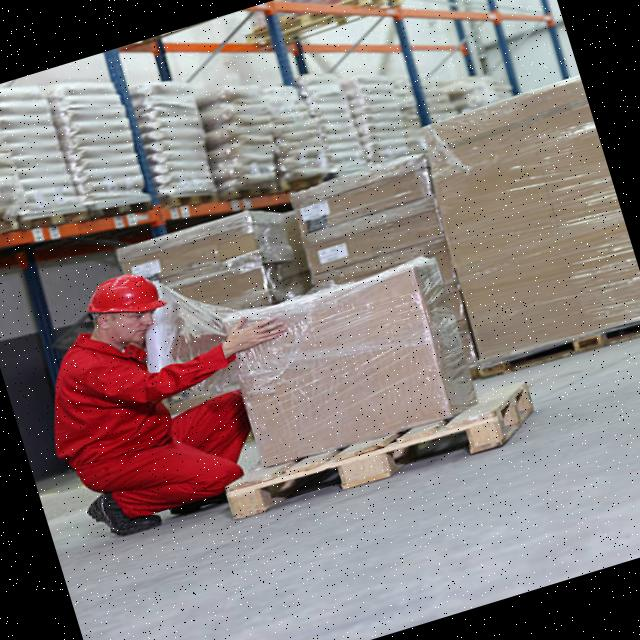Wooden-Pallets: (243, 386, 527, 521)
